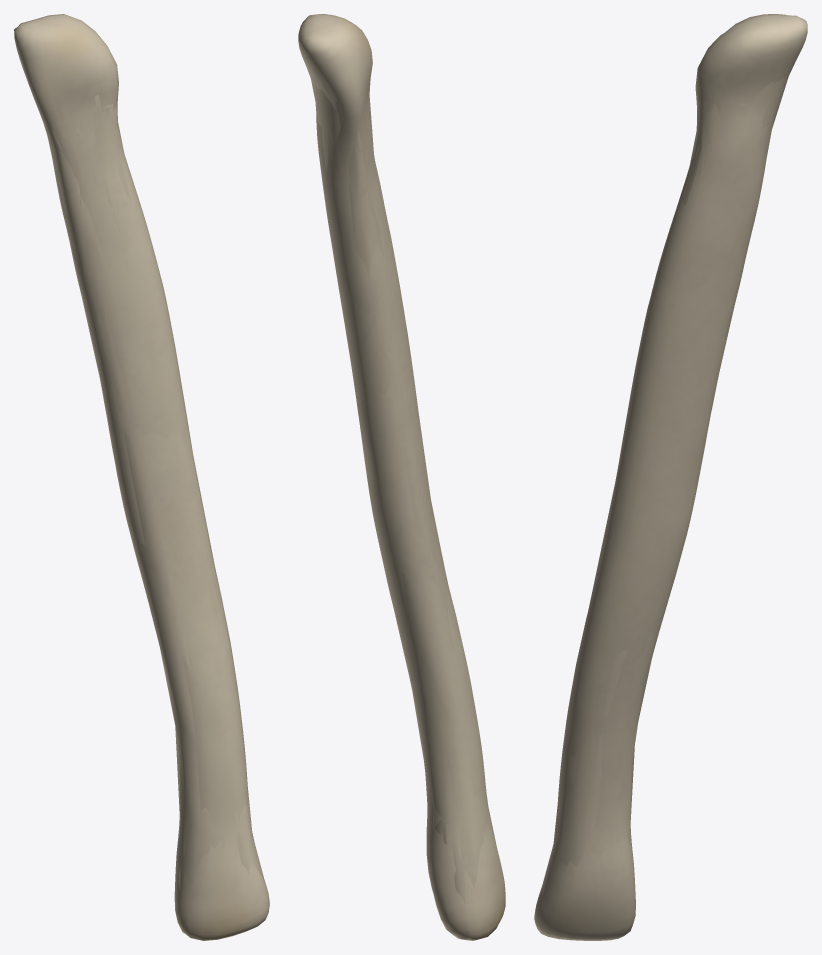
File: R metatarsi secundum.fbx
The picture shows the model from 3 angles, left to right: view 1: azimuth 90°, elevation 25°; view 2: azimuth 150°, elevation 25°; view 3: azimuth 270°, elevation 25°; orthographic projection. The views are drawn at different scales.
Parts seen in each view (by area): view 1: R metatarsi secundum high, R metatarsi secundum low, R metatarsi secundum; view 2: R metatarsi secundum high, R metatarsi secundum low, R metatarsi secundum; view 3: R metatarsi secundum high, R metatarsi secundum low, R metatarsi secundum.
Boxes of the visible parts, bbox=[...] form: R metatarsi secundum high: bbox=[14, 14, 269, 940]; R metatarsi secundum low: bbox=[19, 35, 264, 900]; R metatarsi secundum: bbox=[46, 97, 253, 878]; R metatarsi secundum high: bbox=[298, 14, 505, 940]; R metatarsi secundum low: bbox=[311, 45, 496, 904]; R metatarsi secundum: bbox=[320, 79, 486, 884]; R metatarsi secundum high: bbox=[534, 14, 807, 940]; R metatarsi secundum low: bbox=[539, 74, 789, 901]; R metatarsi secundum: bbox=[571, 57, 797, 857].
Size of the model in its own units: 2.18 by 17.63 by 4.61.
